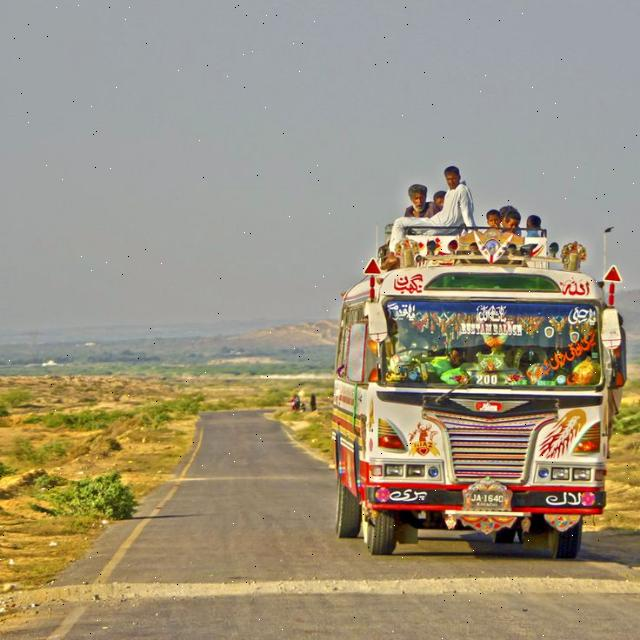Bus: (334, 251, 626, 565)
Person: (422, 156, 477, 237), (397, 179, 435, 217)
